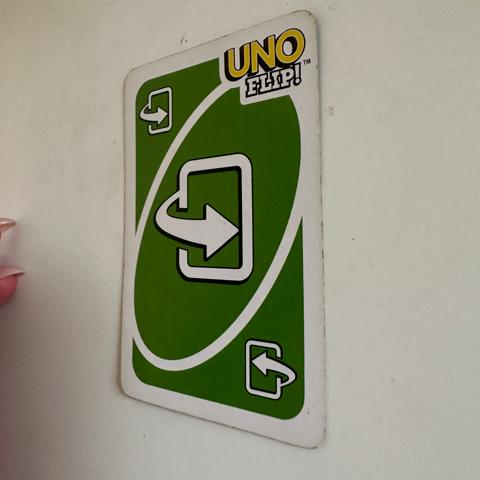lgreenflip-20: (132, 75, 187, 145)
